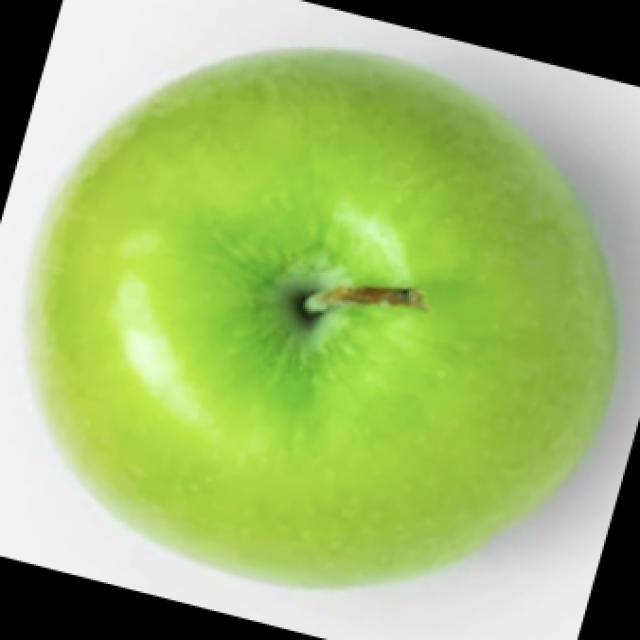Apple: (23, 45, 619, 590)
